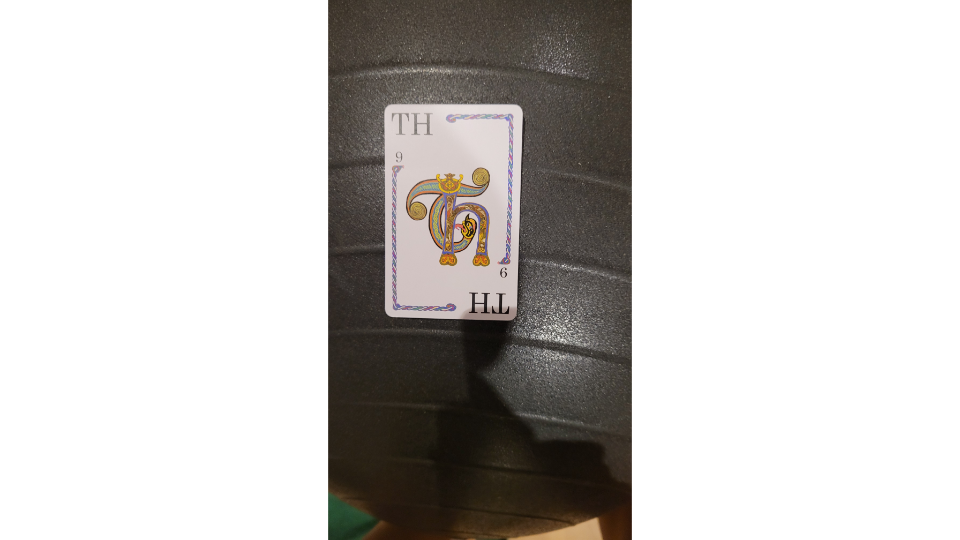TH: (379, 99, 527, 323)
